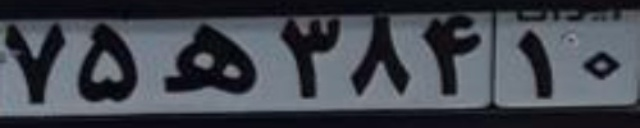0: (579, 49, 624, 81)
1: (516, 29, 553, 99)
3: (279, 17, 343, 99)
4: (423, 14, 481, 95)
5: (76, 21, 136, 102)
7: (4, 23, 64, 104)
8: (351, 14, 412, 95)
he: (158, 22, 259, 96)
